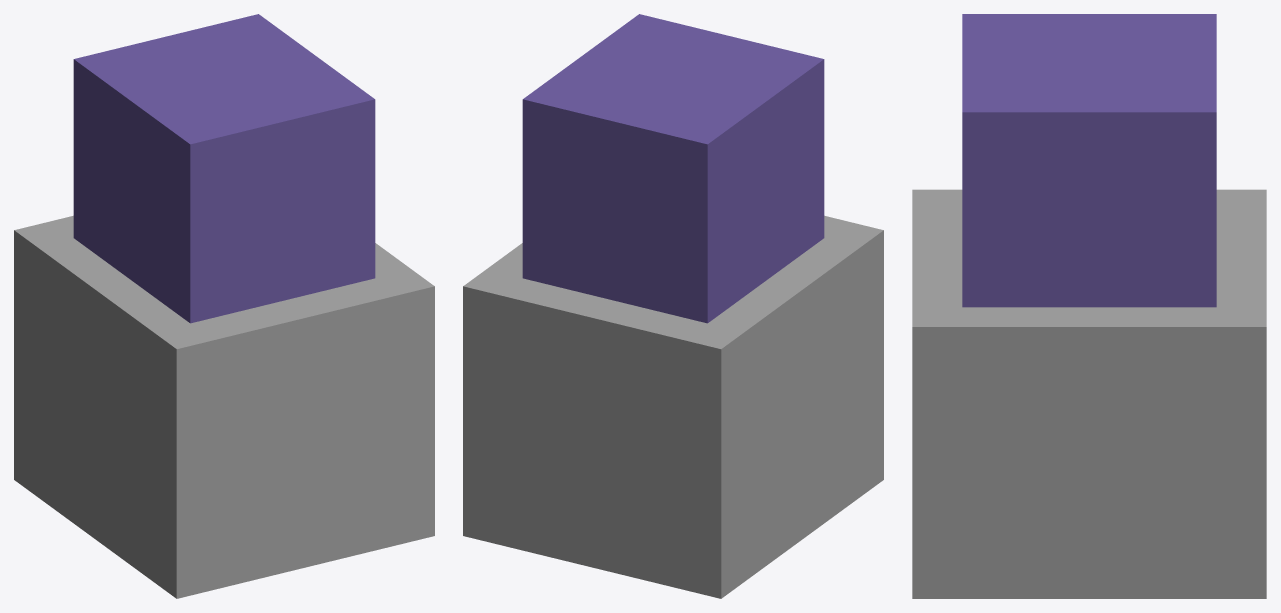
Rendered from CubeTest.fbx.
3 views of the same model, side by side, from view 1: azimuth 30°, elevation 25°; view 2: azimuth 150°, elevation 25°; view 3: azimuth 270°, elevation 25° (orthographic). The views are drawn at different scales.
Parts seen in each view (by area): view 1: pCube1; view 2: pCube1; view 3: pCube1.
Boxes of the visible parts, x1,y1,x2,y2 form: pCube1: (14,14,434,598); pCube1: (463,14,883,598); pCube1: (912,14,1266,598).
Bounding box in the file's own units: 5.65 × 8.97 × 6.17.
